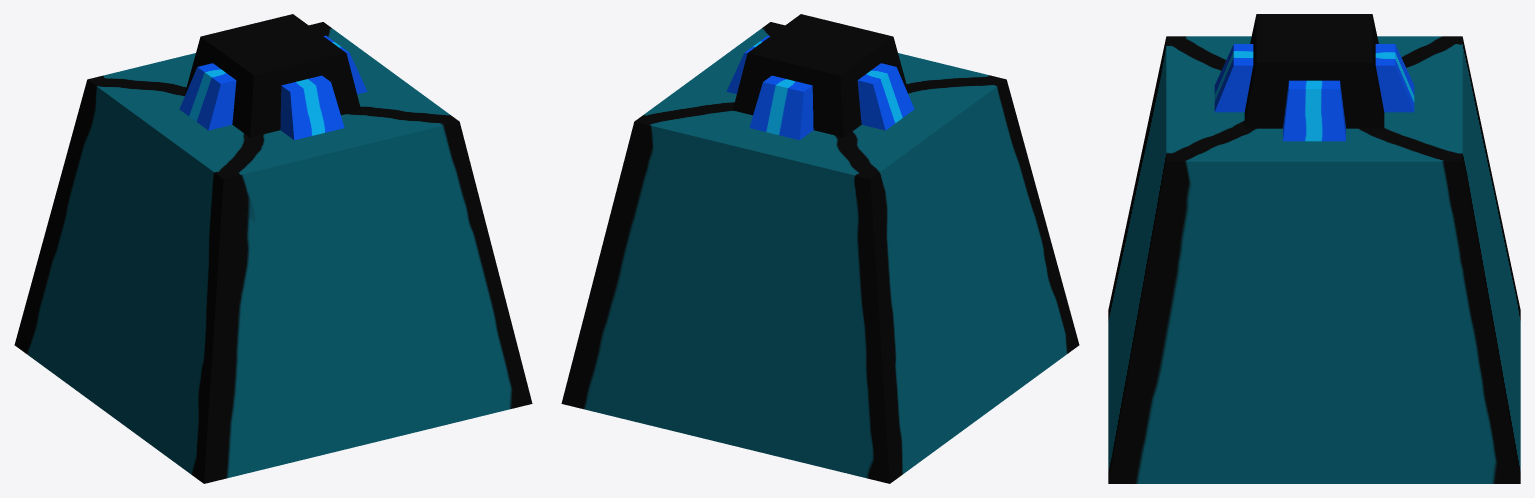
Rendered from Resource Extracter.fbx.
The picture shows the model from 3 angles, left to right: view 1: azimuth 30°, elevation 25°; view 2: azimuth 150°, elevation 25°; view 3: azimuth 270°, elevation 25°; orthographic projection. The views are drawn at different scales.
Visible parts, largest first — view 1: Cube.001, Cube.002, Cube.003, Cube.004; view 2: Cube.001, Cube.002, Cube.003, Cube.004; view 3: Cube.001, Cube.002, Cube.003, Cube.004.
Boxes of the visible parts, x1=… form: Cube.001: x1=14, y1=22, x2=532, y2=483; Cube.002: x1=185, y1=14, x2=361, y2=137; Cube.003: x1=280, y1=75, x2=344, y2=140; Cube.004: x1=179, y1=35, x2=367, y2=130; Cube.001: x1=561, y1=22, x2=1079, y2=483; Cube.002: x1=732, y1=14, x2=908, y2=137; Cube.003: x1=749, y1=75, x2=813, y2=140; Cube.004: x1=726, y1=35, x2=914, y2=130; Cube.001: x1=1108, y1=36, x2=1520, y2=483; Cube.002: x1=1244, y1=14, x2=1384, y2=128; Cube.003: x1=1214, y1=44, x2=1414, y2=112; Cube.004: x1=1283, y1=80, x2=1345, y2=141.
Bounding box in the file's own units: 100 × 95.93 × 100.
Materials: 3 (3 with a texture image).
